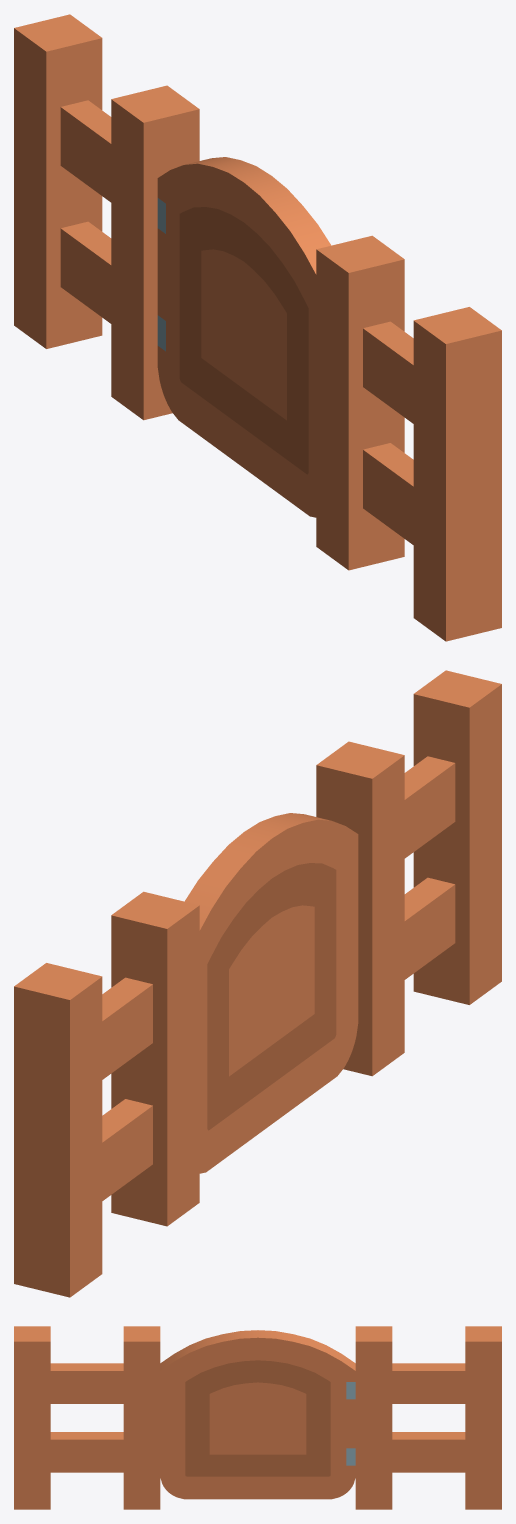
The model's file is fenceGate.obj.
3 views of the same model, one above another, from view 1: azimuth 30°, elevation 25°; view 2: azimuth 150°, elevation 25°; view 3: azimuth 270°, elevation 25° (orthographic). The views are drawn at different scales.
Visible parts, largest first — view 1: fenceGate, gate; view 2: fenceGate, gate; view 3: fenceGate, gate.
Boxes of the visible parts, box(x1,y1,x2,y2) form: fenceGate: box(14, 14, 501, 641); gate: box(157, 157, 331, 517); fenceGate: box(14, 670, 501, 1297); gate: box(184, 813, 358, 1173); fenceGate: box(14, 1326, 501, 1509); gate: box(160, 1330, 355, 1499).
Bounding box in the file's own units: 0.075 × 0.38 × 1.
